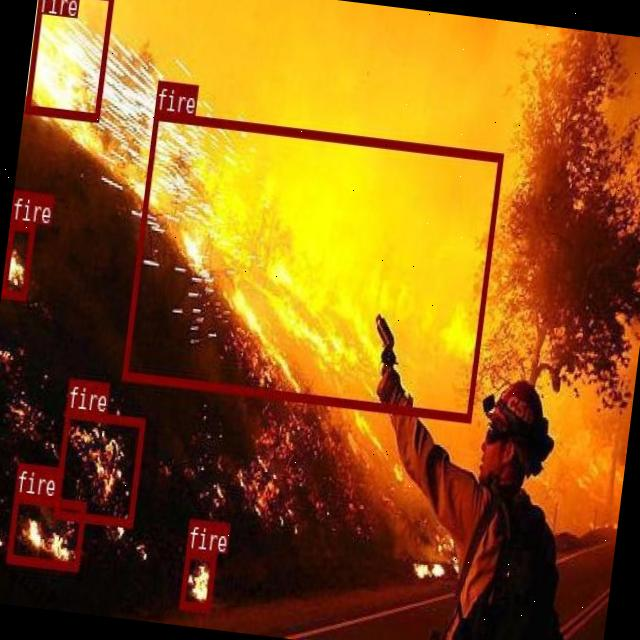fire: (120, 110, 502, 420), (52, 408, 144, 526), (24, 0, 113, 119), (5, 493, 86, 568), (1, 220, 34, 298), (178, 548, 216, 610)
